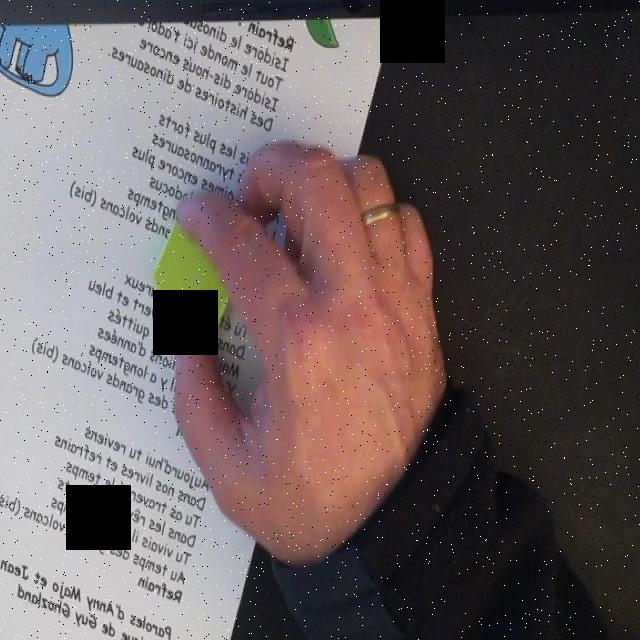hexagon: (154, 222, 239, 331)
